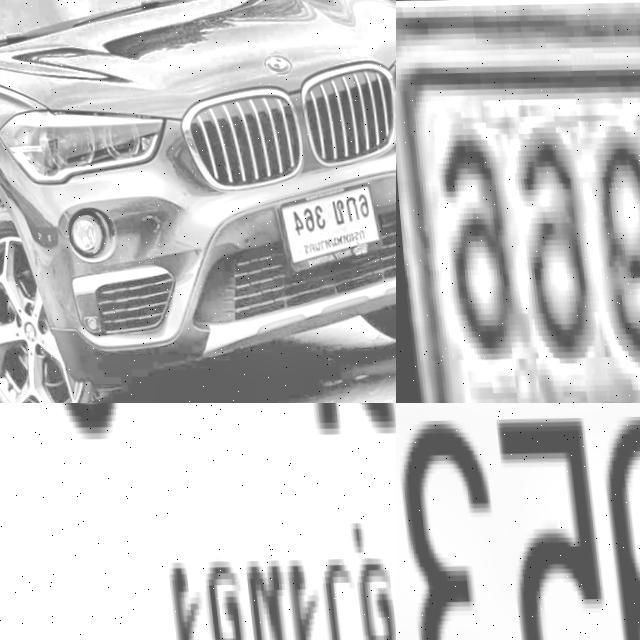license-plate: (396, 18, 640, 403), (0, 403, 396, 640), (396, 403, 640, 640), (265, 172, 378, 280)
